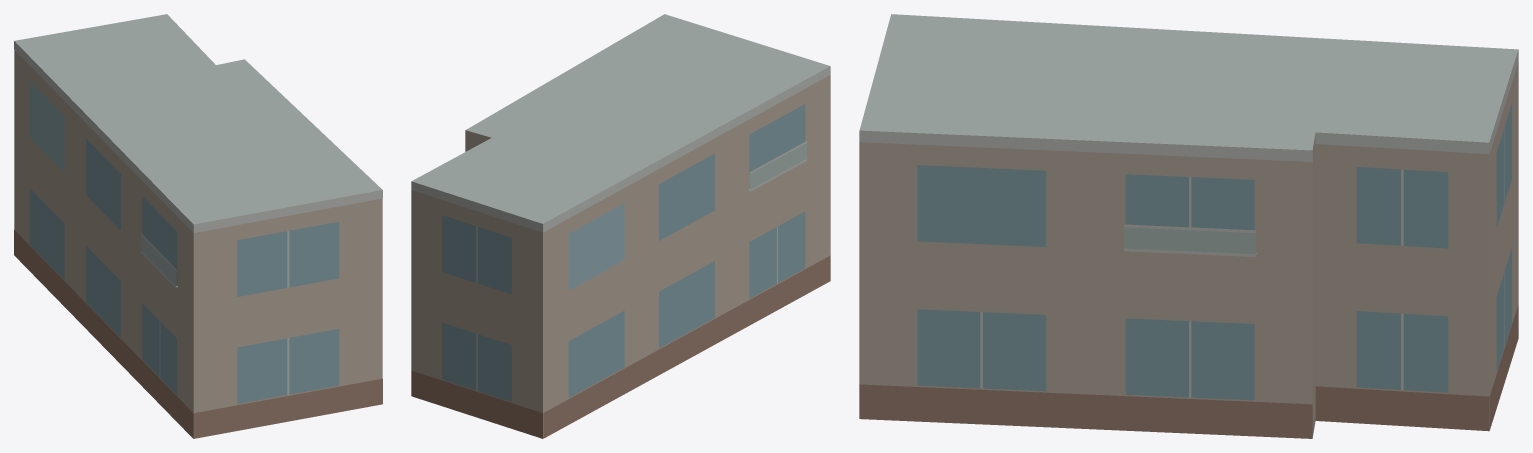
File: survey-upis-32812990.glb
The picture shows the model from 3 angles, left to right: view 1: azimuth 30°, elevation 25°; view 2: azimuth 150°, elevation 25°; view 3: azimuth 270°, elevation 25°; orthographic projection. The views are drawn at different scales.
Parts seen in each view (by area): view 1: survey-upis-32812990.tmp; view 2: survey-upis-32812990.tmp; view 3: survey-upis-32812990.tmp.
Part boxes in pixels (bbox=[...]): survey-upis-32812990.tmp: bbox=[14, 14, 382, 438]; survey-upis-32812990.tmp: bbox=[411, 14, 830, 438]; survey-upis-32812990.tmp: bbox=[859, 14, 1518, 438].
Bounding box in the file's own units: 6.2 × 6.1 × 12.65.
